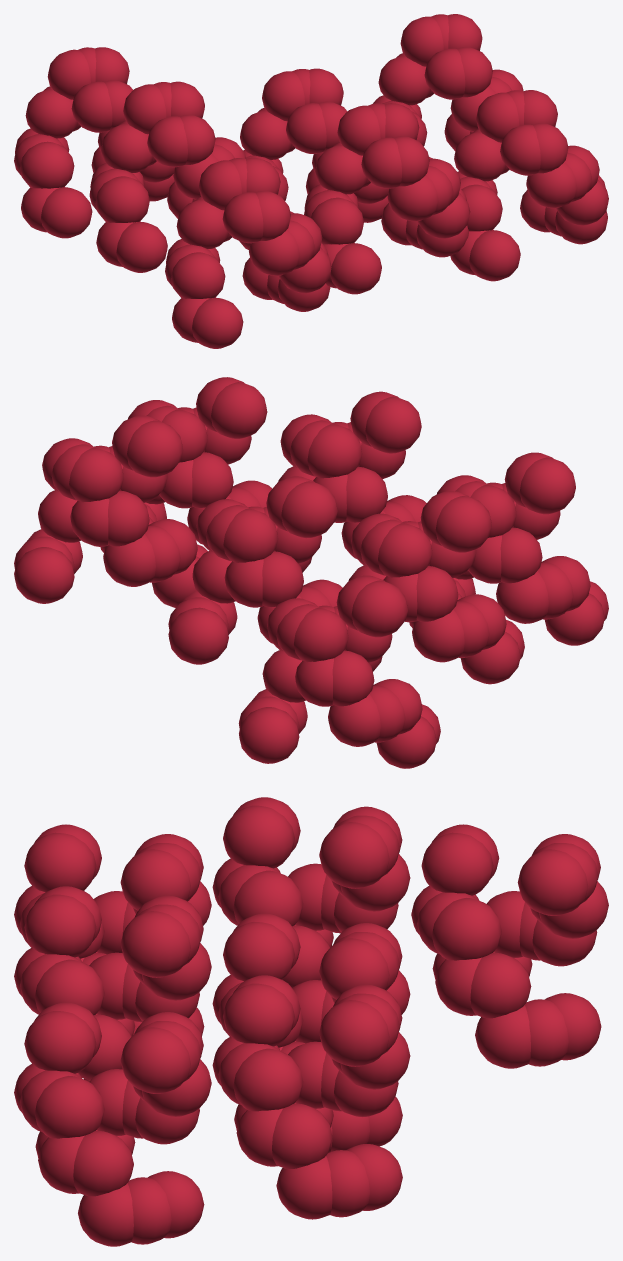
File: raspberries.glb
3 views of the same model, one above another, from view 1: azimuth 30°, elevation 25°; view 2: azimuth 150°, elevation 25°; view 3: azimuth 270°, elevation 25° (orthographic). The views are drawn at different scales.
Parts seen in each view (by area): view 1: edible_berry.144, edible_berry.084, edible_berry.024, edible_berry.059, edible_berry.139, edible_berry.039, edible_berry.079, edible_berry.019, edible_berry.041, edible_berry.061, edible_berry.121, edible_berry.021 (+67 smaller); view 2: edible_berry.103, edible_berry.123, edible_berry.143, edible_berry.114, edible_berry.034, edible_berry.134, edible_berry.094, edible_berry.014, edible_berry.074, edible_berry.054, edible_berry.086, edible_berry.106 (+65 smaller); view 3: edible_berry.110, edible_berry.070, edible_berry.050, edible_berry.030, edible_berry.130, edible_berry.042, edible_berry.122, edible_berry.082, edible_berry.142, edible_berry.062, edible_berry.125, edible_berry.065 (+74 smaller).
Part boxes in pixels (<box>): edible_berry.144: <box>20,141,74,188</box>; edible_berry.084: <box>95,176,149,222</box>; edible_berry.024: <box>171,252,225,298</box>; edible_berry.059: <box>469,230,520,281</box>; edible_berry.139: <box>41,187,92,238</box>; edible_berry.039: <box>330,243,381,294</box>; edible_berry.079: <box>116,222,167,272</box>; edible_berry.019: <box>192,298,243,348</box>; edible_berry.041: <box>315,145,367,194</box>; edible_berry.061: <box>454,131,506,181</box>; edible_berry.121: <box>378,55,430,105</box>; edible_berry.021: <box>176,199,228,248</box>; edible_berry.103: <box>168,607,228,664</box>; edible_berry.123: <box>14,547,74,603</box>; edible_berry.143: <box>239,707,299,763</box>; edible_berry.114: <box>127,420,183,477</box>; edible_berry.034: <box>365,396,421,453</box>; edible_berry.134: <box>351,580,407,637</box>; edible_berry.094: <box>281,481,337,538</box>; edible_berry.014: <box>519,457,575,514</box>; edible_berry.074: <box>435,496,491,552</box>; edible_berry.054: <box>211,382,267,438</box>; edible_berry.086: <box>378,523,432,577</box>; edible_berry.106: <box>223,508,278,562</box>; edible_berry.110: <box>319,1000,389,1066</box>; edible_berry.070: <box>319,822,389,888</box>; edible_berry.050: <box>120,1027,190,1093</box>; edible_berry.030: <box>120,911,190,977</box>; edible_berry.130: <box>517,849,588,915</box>; edible_berry.042: <box>24,894,96,957</box>; edible_berry.122: <box>223,983,294,1046</box>; edible_berry.082: <box>223,805,294,868</box>; edible_berry.142: <box>421,832,493,895</box>; edible_berry.062: <box>24,1011,96,1073</box>; edible_berry.125: <box>233,1048,303,1111</box>; edible_berry.065: <box>34,1076,104,1138</box>.
Size of the model in its own units: 0.1098 by 0.04 by 0.0989.
